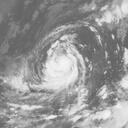cyclone: (42, 43, 80, 90)
